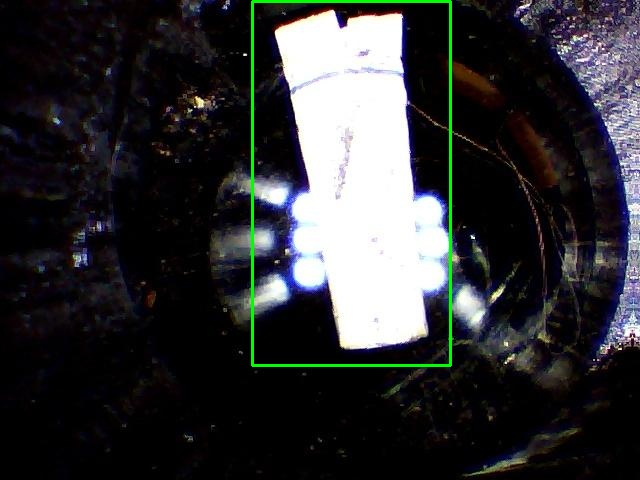megot: (252, 1, 450, 365)
